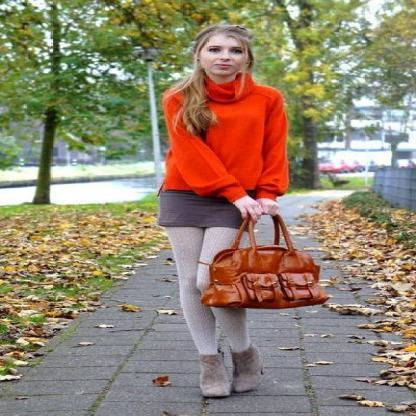bag: (200, 210, 328, 308)
pants: (162, 227, 252, 355)
shirt: (161, 71, 288, 215)
shoe: (198, 348, 256, 395)
skirt: (157, 188, 245, 240)
